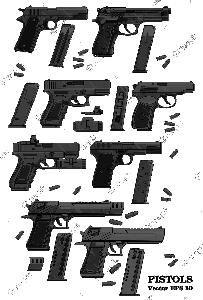handgun: (21, 190, 122, 254), (90, 4, 175, 66), (80, 220, 165, 280), (7, 78, 114, 124), (15, 7, 89, 67), (8, 135, 88, 189), (92, 134, 165, 190), (129, 81, 194, 124)
